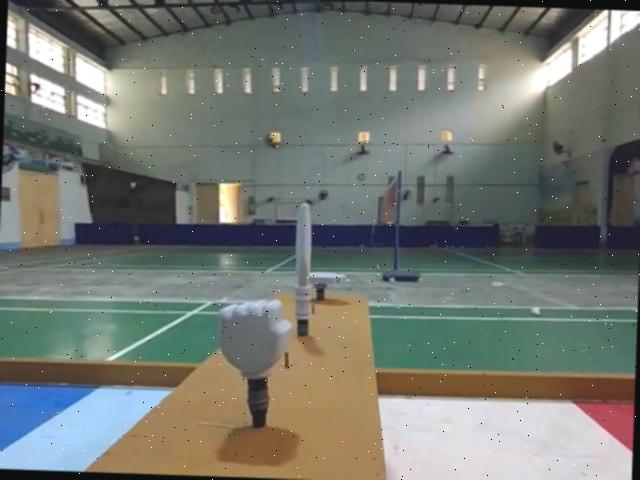Fist: (211, 292, 281, 431)
Hand: (309, 265, 346, 301)
Sph: (290, 204, 317, 338)
